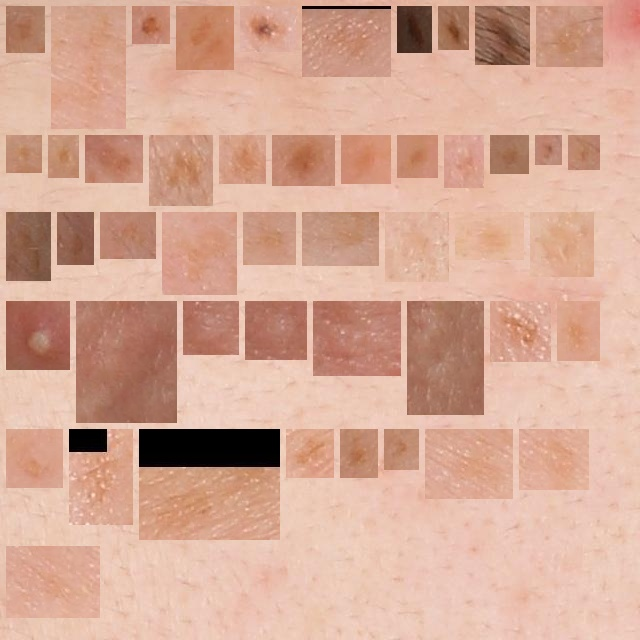hypertrophic_scar: (84, 309, 169, 415), (415, 309, 476, 407), (321, 309, 393, 368), (253, 309, 299, 352), (191, 309, 231, 347)
melasma: (147, 437, 272, 532), (59, 14, 118, 121), (14, 554, 92, 610), (310, 14, 383, 69), (170, 220, 229, 287), (433, 437, 505, 491), (77, 437, 125, 517), (157, 143, 205, 198), (393, 220, 441, 274), (527, 437, 581, 482), (538, 220, 586, 269), (310, 220, 371, 258), (544, 14, 595, 59), (498, 309, 543, 354), (184, 14, 226, 62), (14, 437, 55, 480), (463, 220, 516, 252), (280, 143, 327, 178), (14, 220, 43, 273), (251, 220, 288, 257), (93, 143, 135, 175), (108, 220, 148, 251), (565, 309, 592, 353), (349, 143, 383, 176), (294, 437, 326, 470), (227, 143, 258, 176), (452, 143, 476, 180), (65, 220, 86, 257), (348, 437, 370, 470), (14, 14, 37, 45), (405, 143, 430, 170), (498, 143, 521, 166), (140, 14, 162, 36), (392, 437, 411, 462), (14, 143, 34, 165), (56, 143, 71, 170), (576, 143, 592, 162), (543, 143, 554, 157)
nevus: (483, 14, 522, 57), (248, 14, 288, 44), (405, 14, 424, 45), (446, 14, 461, 42)
pustule: (14, 309, 62, 362)
